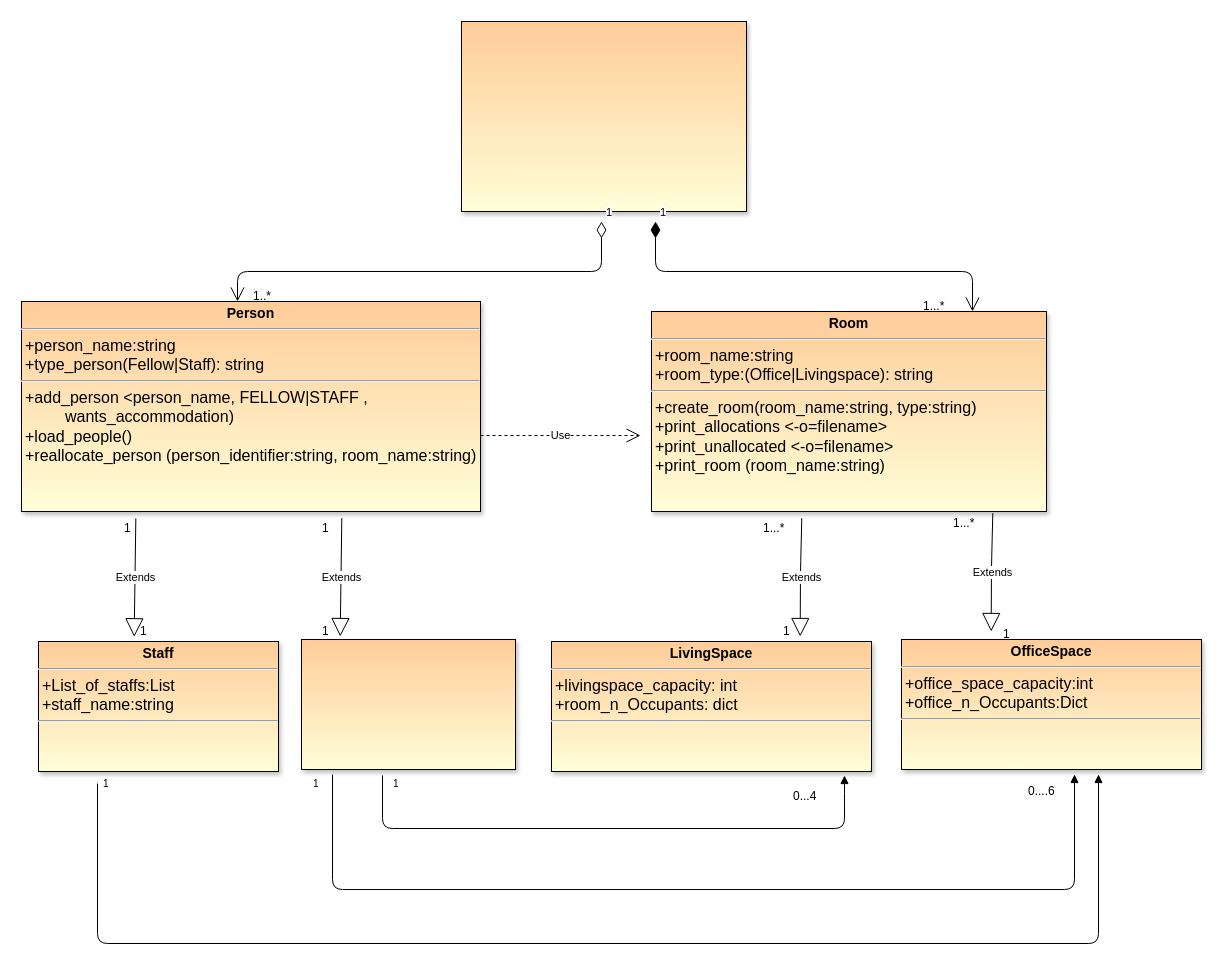
Image size: 1225x969. Some labels were removed from this diagram. Each missing label, with the centre of its shape:
"Amity -db + save_state <--db=sqlite_database> + load_state <sqlite_database>" goes at point 604,117.
"Fellow +List_of _fellows:List +fellow_name:string" goes at point 409,705.
